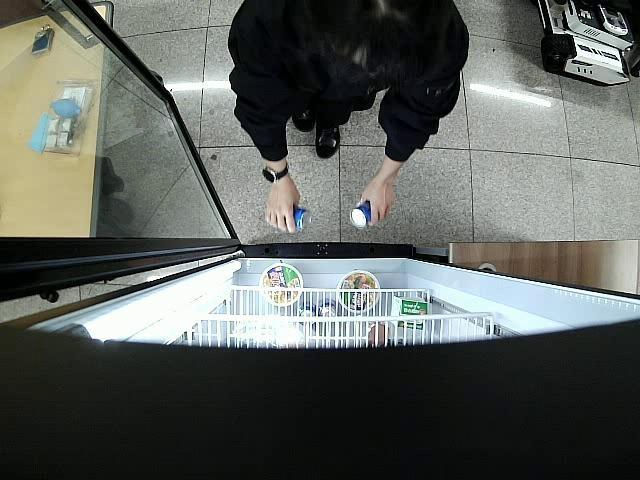15_letsbe: (349, 202, 372, 228), (290, 208, 312, 232)
